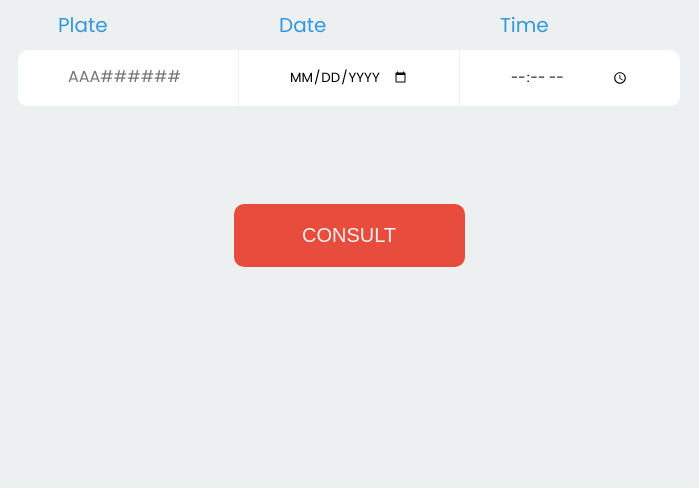
it: querying › User querying ui DATE-BEFORE
The image size is (699, 488).
In the field labelled "Plate": (128, 78) x1=18 y1=50 x2=238 y2=106, type "AAA1259"
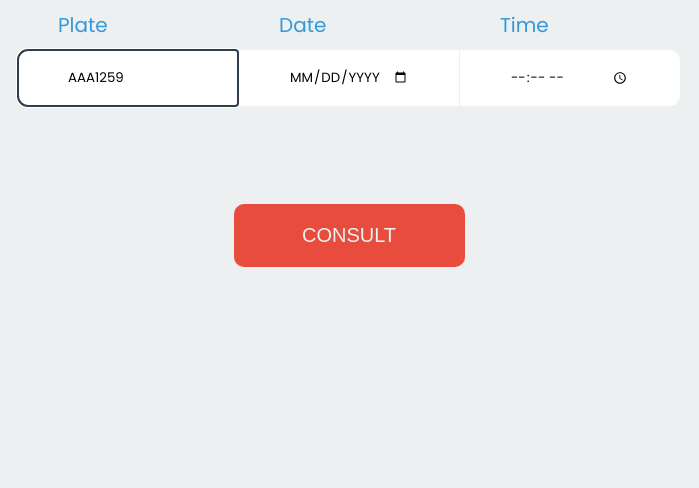
In the date field labelled "Date": (349, 78) x1=239 y1=50 x2=459 y2=106, type "2022-06-09"
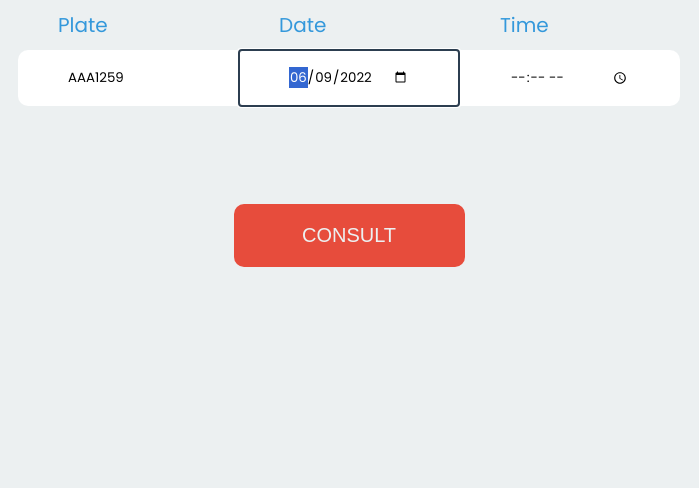
In the time field labelled "Time": (570, 78) x1=460 y1=50 x2=680 y2=106, type "08:57"
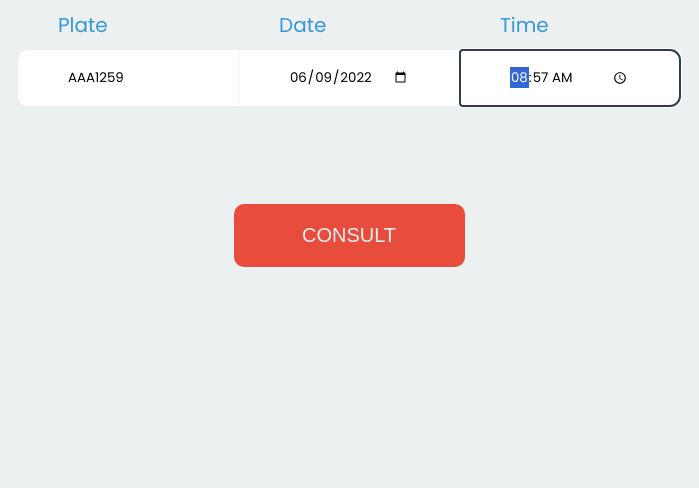
Click the button "Consult": (350, 236) x1=234 y1=204 x2=465 y2=267
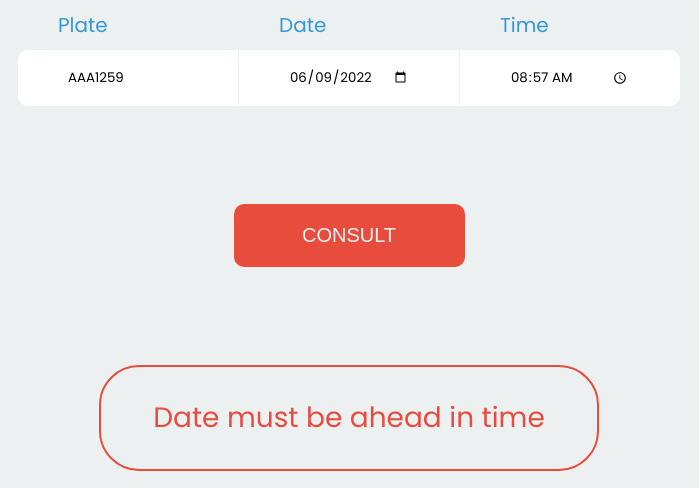
Expected: the text "Date must be ahead in time" is shown, x1=153 y1=397 x2=545 y2=439
